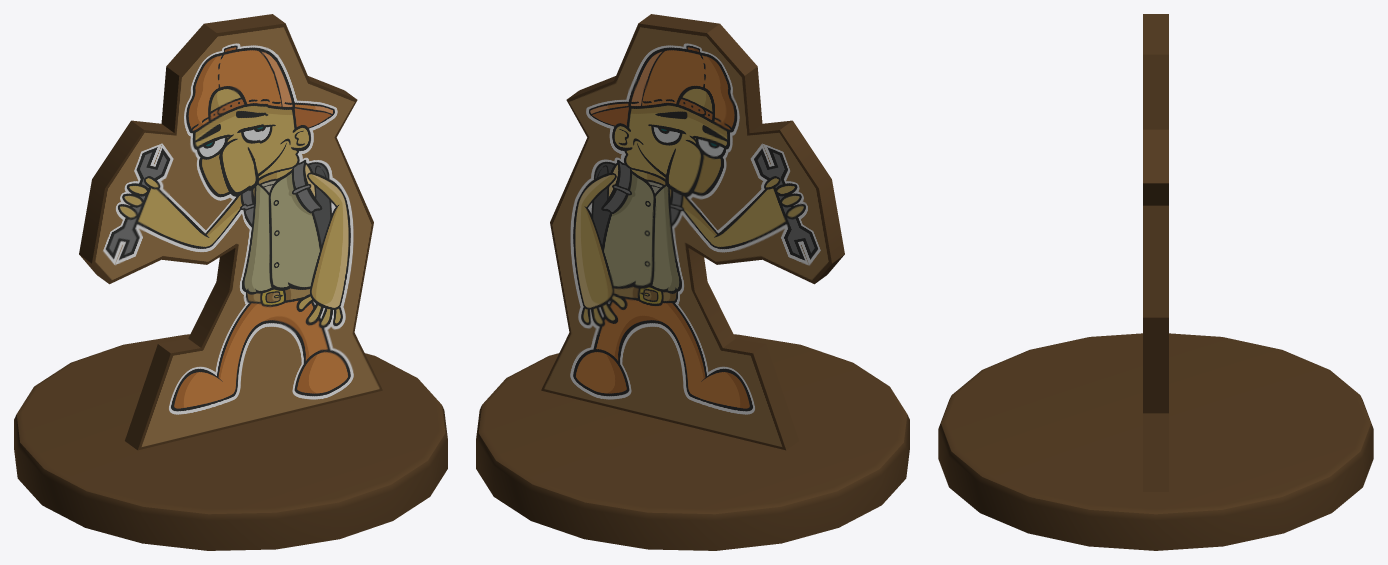
Rendered from Engineer.fbx.
3 renders of one model, left to right at view 1: azimuth 30°, elevation 25°; view 2: azimuth 150°, elevation 25°; view 3: azimuth 270°, elevation 25°, orthographic.
Parts seen in each view (by area): view 1: Engineer; view 2: Engineer; view 3: Engineer.
Boxes of the visible parts, x1,y1,x2,y2 form: Engineer: [14, 14, 447, 550]; Engineer: [476, 14, 909, 550]; Engineer: [938, 14, 1373, 550].
Bounding box in the file's own units: 0.7351 × 0.8107 × 0.7351.
Materials: 1 (1 with a texture image).
